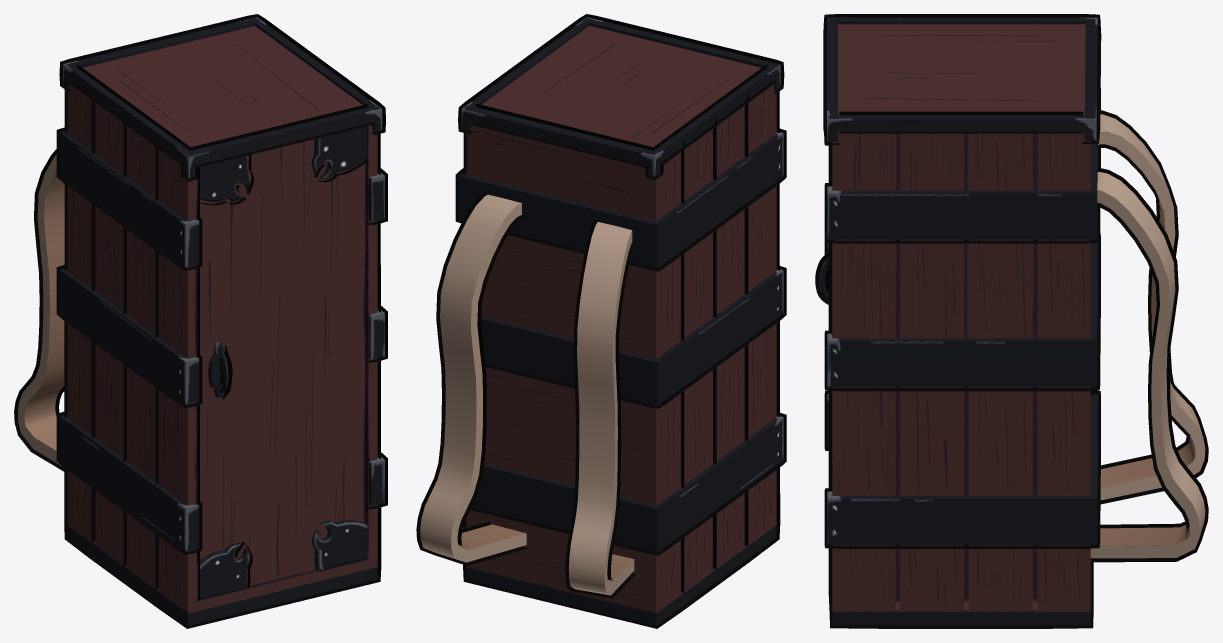
The picture shows the model from 3 angles, left to right: view 1: azimuth 30°, elevation 25°; view 2: azimuth 150°, elevation 25°; view 3: azimuth 270°, elevation 25°; orthographic projection. The views are drawn at different scales.
Parts seen in each view (by area): view 1: NezukoBox_NezukoBox_0, Outline_Outline_0; view 2: NezukoBox_NezukoBox_0, Outline_Outline_0; view 3: NezukoBox_NezukoBox_0, Outline_Outline_0.
Boxes of the visible parts, box(x1,y1,x2,y2) form: NezukoBox_NezukoBox_0: box(18, 17, 384, 625); Outline_Outline_0: box(14, 14, 387, 628); NezukoBox_NezukoBox_0: box(420, 17, 783, 625); Outline_Outline_0: box(416, 14, 786, 628); NezukoBox_NezukoBox_0: box(819, 17, 1205, 625); Outline_Outline_0: box(815, 14, 1208, 628).
Size of the model in its own units: 0.3621 by 0.8108 by 0.5631.
2 materials, 1 textured.
